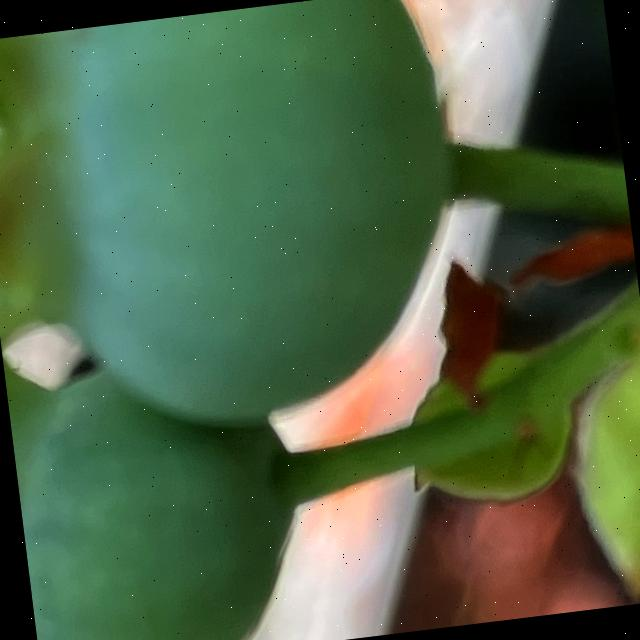Blueberries: (0, 0, 484, 455)
